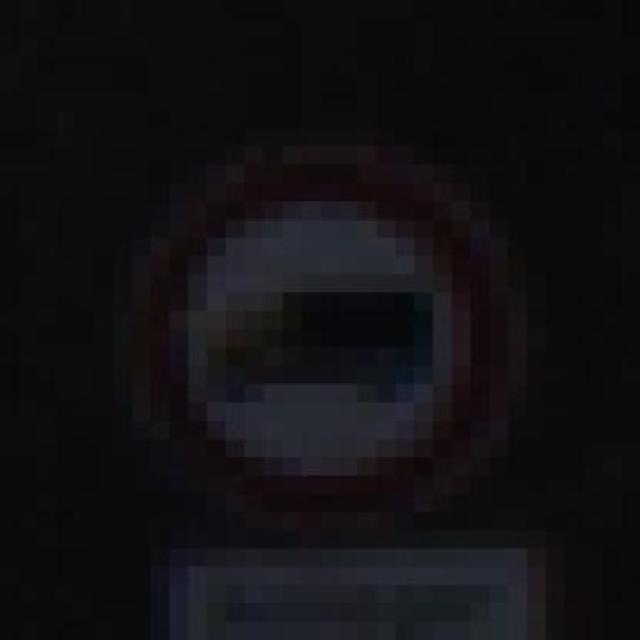Truck traffic is prohibited: (112, 109, 546, 531)
